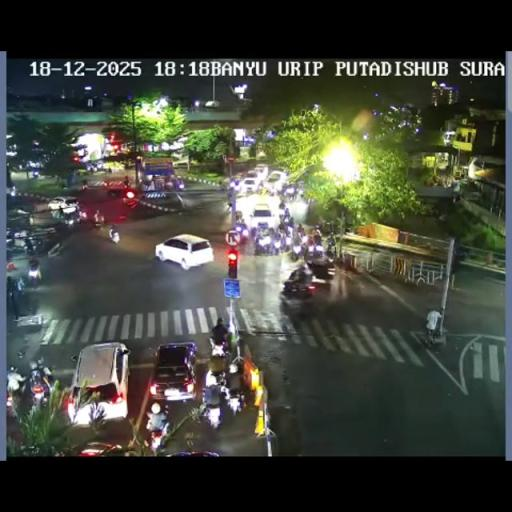Car: (68, 342, 130, 424), (148, 342, 198, 402), (154, 232, 212, 270), (250, 203, 276, 230), (74, 441, 123, 455), (102, 178, 134, 197), (47, 196, 79, 212), (266, 170, 286, 192), (238, 178, 260, 192), (254, 164, 268, 178)
Motorcycle: (281, 274, 314, 299), (200, 397, 223, 429), (146, 420, 168, 452), (306, 253, 334, 278), (29, 374, 48, 408), (203, 366, 227, 392), (424, 310, 442, 344), (226, 387, 245, 415), (254, 228, 272, 254), (208, 338, 228, 359), (315, 218, 337, 237), (6, 380, 18, 414), (62, 208, 84, 226), (281, 183, 301, 202), (308, 238, 325, 258), (28, 264, 42, 288), (234, 218, 248, 242), (290, 238, 303, 260), (325, 236, 337, 257), (278, 230, 288, 254), (30, 236, 43, 254), (92, 213, 105, 228), (284, 212, 294, 230), (218, 384, 229, 400), (108, 229, 119, 243), (228, 360, 238, 374), (224, 198, 233, 213), (250, 223, 258, 239), (278, 204, 287, 218), (164, 178, 174, 190), (175, 177, 184, 190), (220, 180, 230, 191), (235, 210, 243, 223), (300, 232, 308, 244), (123, 175, 130, 187), (58, 205, 64, 218), (87, 164, 94, 174), (82, 182, 88, 192), (10, 186, 15, 197), (106, 166, 112, 174)
